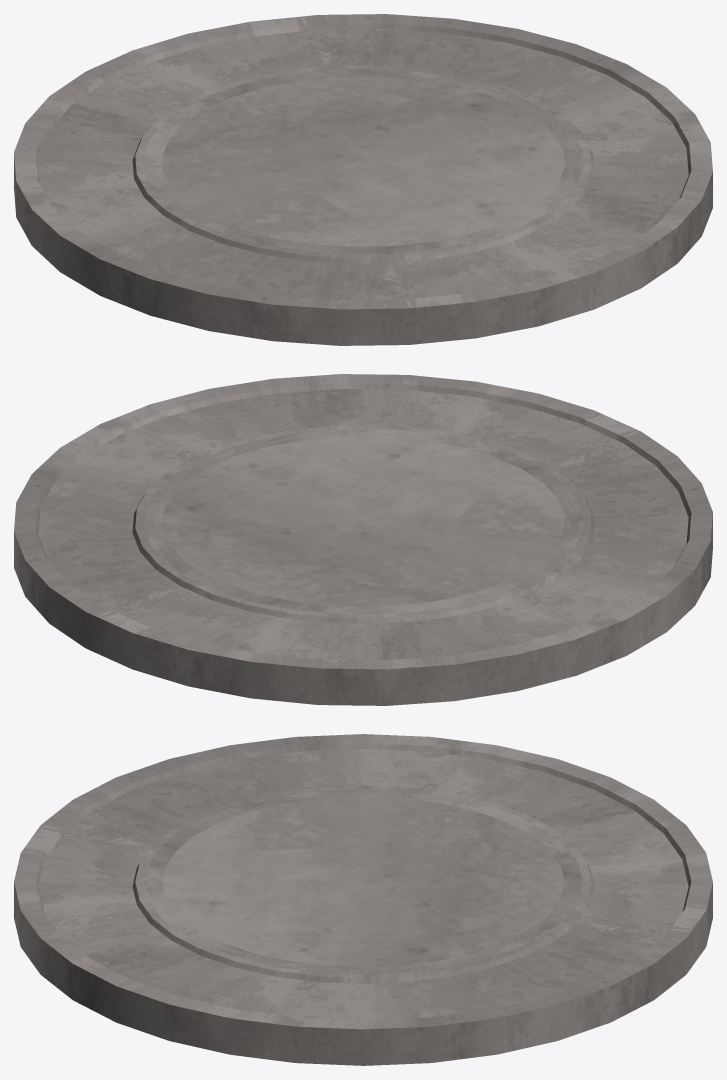
The model's file is Elevator.fbx.
3 renders of one model, top to bottom at view 1: azimuth 30°, elevation 25°; view 2: azimuth 150°, elevation 25°; view 3: azimuth 270°, elevation 25°, orthographic.
Parts seen in each view (by area): view 1: Cylinder.002; view 2: Cylinder.002; view 3: Cylinder.002.
Part boxes in pixels (left/top/right/bottom): Cylinder.002: left=14, top=14, right=712, bottom=345; Cylinder.002: left=14, top=374, right=712, bottom=705; Cylinder.002: left=14, top=734, right=712, bottom=1065.
Size of the model in its own units: 200 by 11.51 by 200.
